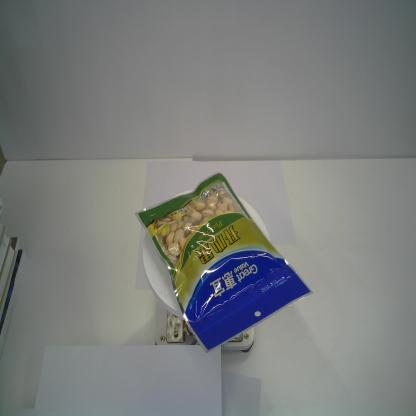Dried Fruit: (134, 172, 314, 354)
